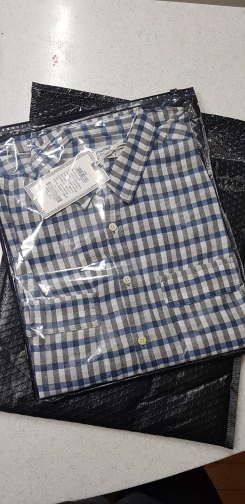shirts: (2, 103, 245, 400)
